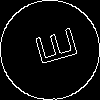E: (25, 25, 79, 70)
